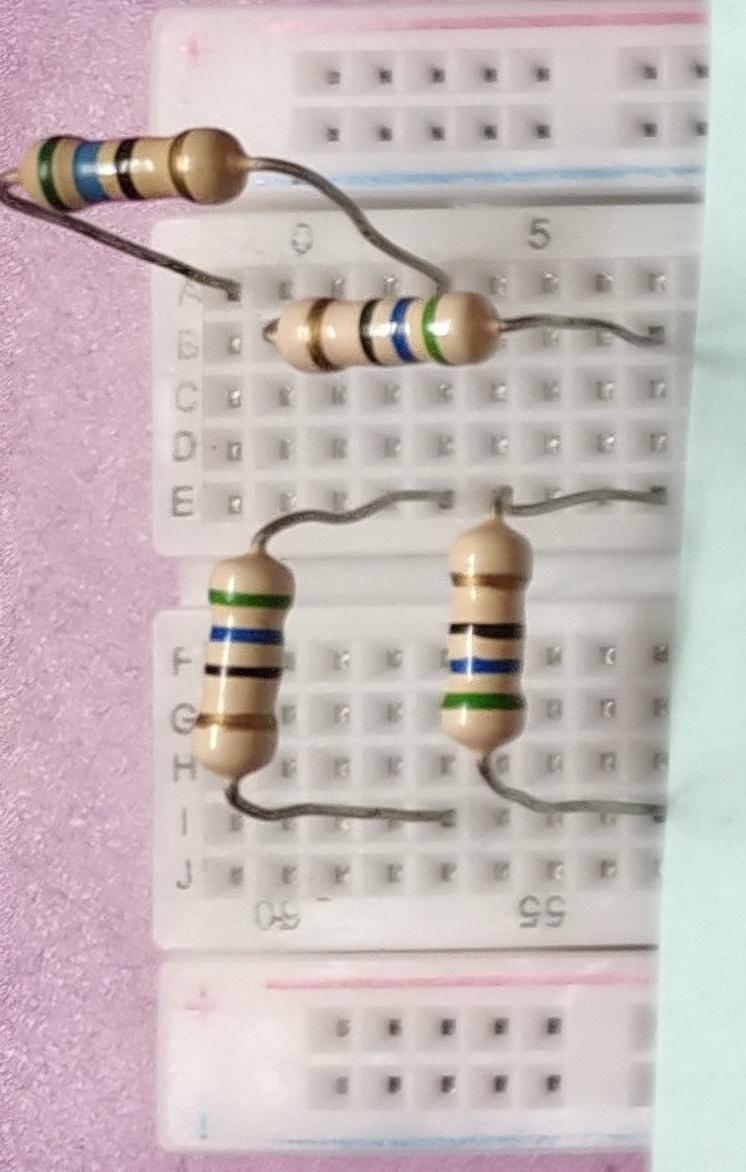resistor: (413, 513, 569, 767), (178, 533, 322, 801), (0, 121, 271, 241), (258, 276, 539, 383)
